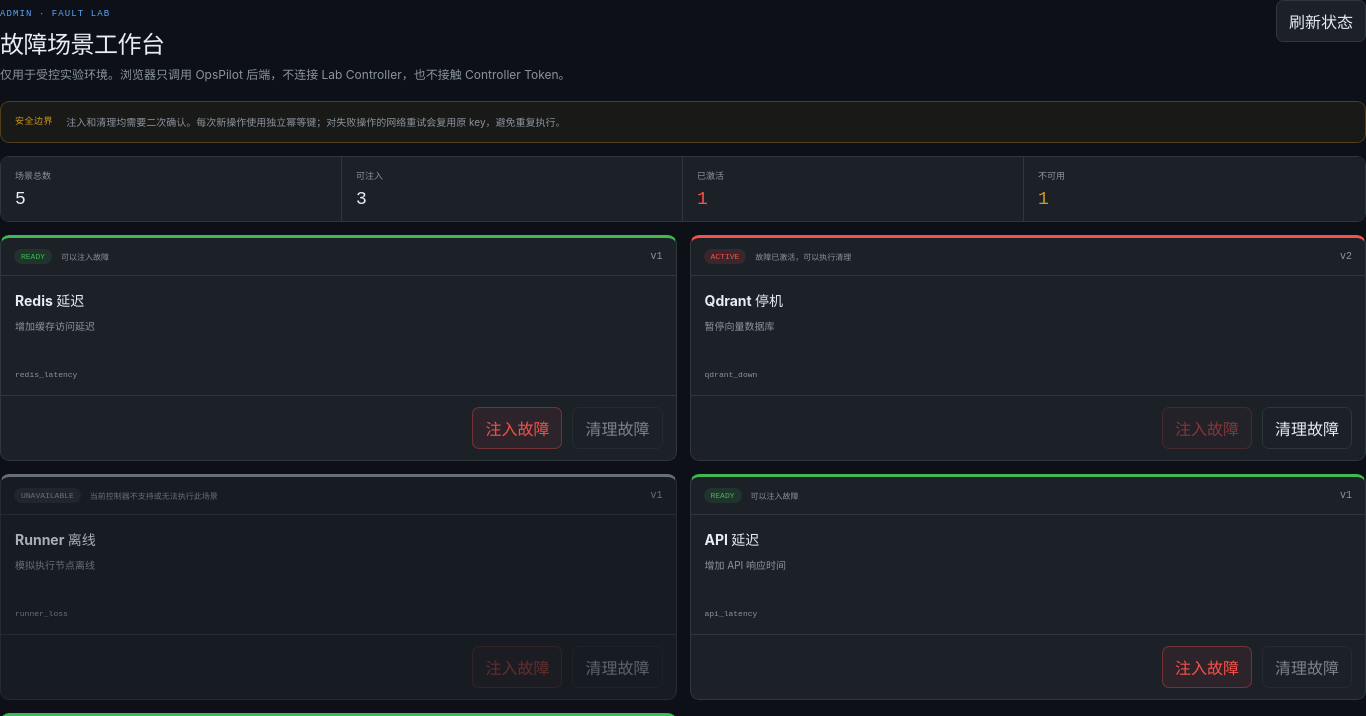
Test: Fault Lab page › reuses the original idempotency key when retrying a failed request
The image size is (1366, 716).
What coordinates should you click on to do the following:
click the 1st button "注入故障"
I would click on:
 (518, 428)
Its box is [472,407,562,449].
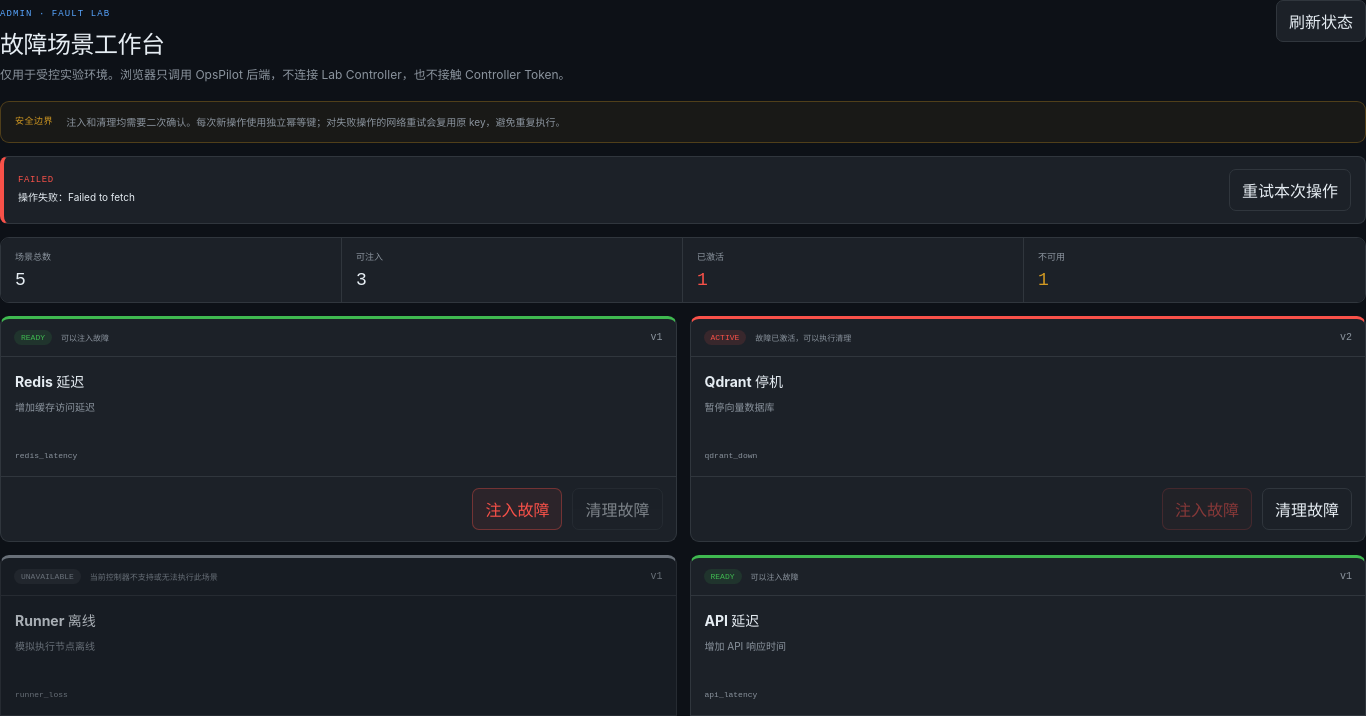
What coordinates should you click on to do the following:
click the button "重试本次操作"
I would click on:
 (1290, 190)
Its box is [1229,169,1351,211].
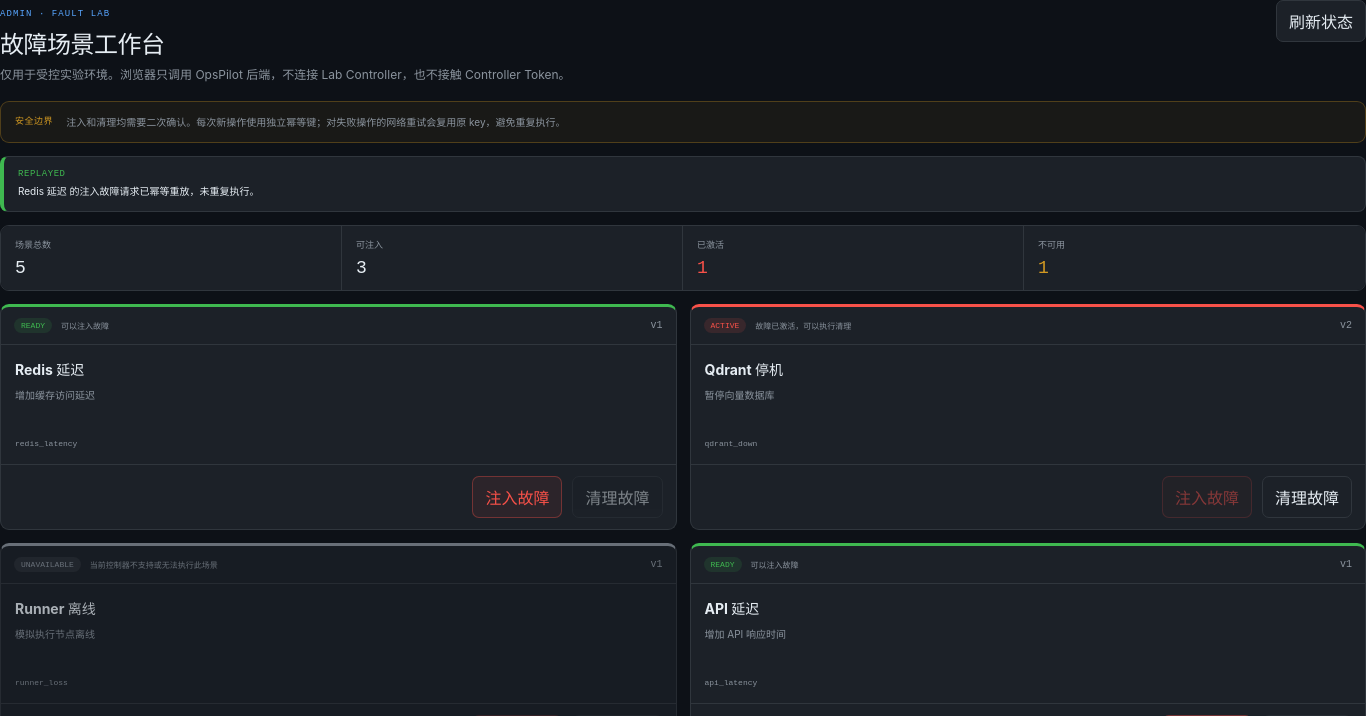
Result: the text "请求已幂等重放" is shown at [18,185,260,197]
Result: the text "REPLAYED" is shown at [18,169,66,179]
